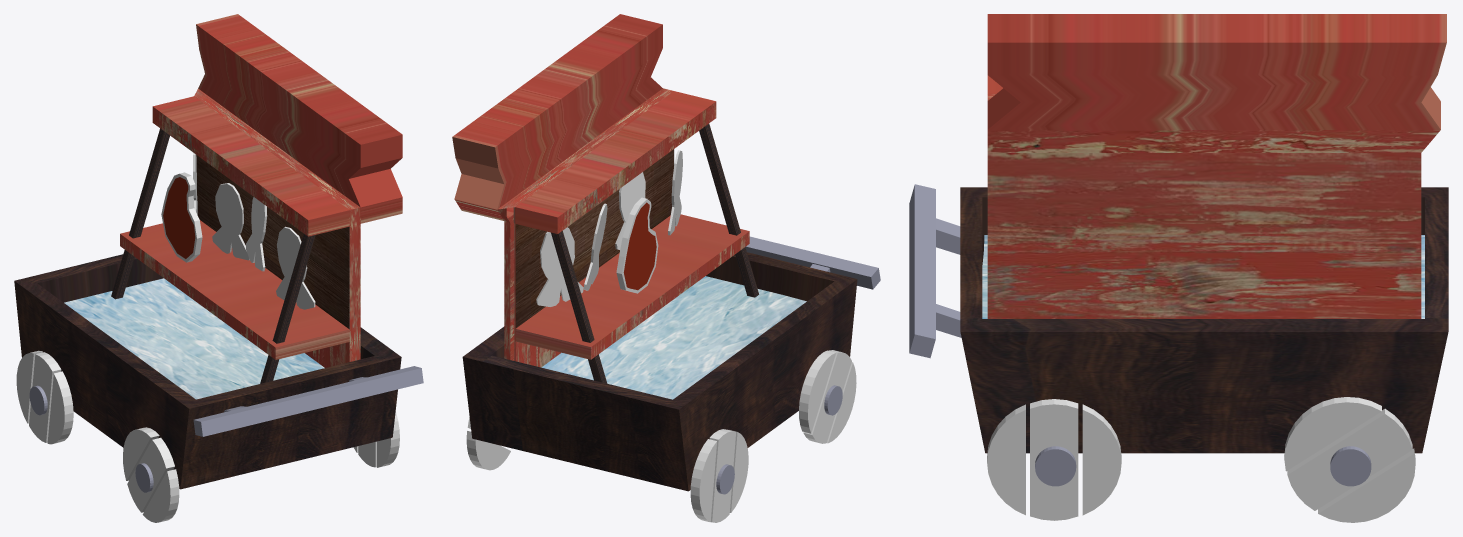
The model's file is inalwheelCart.fbx.
The picture shows the model from 3 angles, left to right: view 1: azimuth 30°, elevation 25°; view 2: azimuth 150°, elevation 25°; view 3: azimuth 270°, elevation 25°; orthographic projection. The views are drawn at different scales.
Visible parts, largest first — view 1: stand (×2), rail, meat, stick2, fish2, stick, wheel2.2, fish4, wheel1, wheel1.3, wheel2.3, fish3 (+3 smaller); view 2: stand (×2), meat, rail, stick, stick2, fish1, wheel2, wheel1.2, wheel1.3, wheel2.2, wheel3.2, wheel1 (+4 smaller); view 3: stand (×2), rail, wheel3.3, wheel4.4, wheel3, wheel3.2, wheel4.2, wheel4, wheelrod, wheelrod2.
Part boxes in pixels (x1=…): stand (×2): x1=14, y1=14, x2=402, y2=489; rail: x1=193, y1=366, x2=423, y2=436; meat: x1=161, y1=172, x2=202, y2=262; stick2: x1=111, y1=128, x2=169, y2=299; fish2: x1=212, y1=183, x2=249, y2=260; stick: x1=260, y1=234, x2=315, y2=383; wheel2.2: x1=127, y1=437, x2=174, y2=512; fish4: x1=276, y1=226, x2=315, y2=309; wheel1: x1=47, y1=371, x2=73, y2=444; wheel1.3: x1=29, y1=352, x2=61, y2=442; wheel2.3: x1=142, y1=469, x2=179, y2=522; fish3: x1=246, y1=197, x2=267, y2=271; stand (×2): x1=452, y1=14, x2=857, y2=491; meat: x1=616, y1=197, x2=658, y2=293; rail: x1=745, y1=236, x2=880, y2=289; stick: x1=699, y1=123, x2=758, y2=297; stick2: x1=551, y1=231, x2=607, y2=383; fish1: x1=536, y1=227, x2=583, y2=306; wheel2: x1=799, y1=350, x2=835, y2=433; wheel1.2: x1=690, y1=439, x2=716, y2=522; wheel1.3: x1=709, y1=429, x2=735, y2=522; wheel2.2: x1=803, y1=350, x2=851, y2=443; wheel3.2: x1=466, y1=431, x2=510, y2=470; wheel1: x1=729, y1=430, x2=748, y2=512; stand (×2): x1=960, y1=14, x2=1448, y2=453; rail: x1=909, y1=184, x2=961, y2=358; wheel3.3: x1=1287, y1=408, x2=1412, y2=510; wheel4.4: x1=1030, y1=399, x2=1078, y2=520; wheel3: x1=1284, y1=397, x2=1381, y2=471; wheel3.2: x1=1318, y1=448, x2=1415, y2=522; wheel4.2: x1=1082, y1=404, x2=1121, y2=515; wheel4: x1=987, y1=404, x2=1025, y2=515; wheelrod: x1=1330, y1=446, x2=1371, y2=486; wheelrod2: x1=1035, y1=446, x2=1076, y2=486.
Size of the model in its own units: 603 by 841 by 852.
